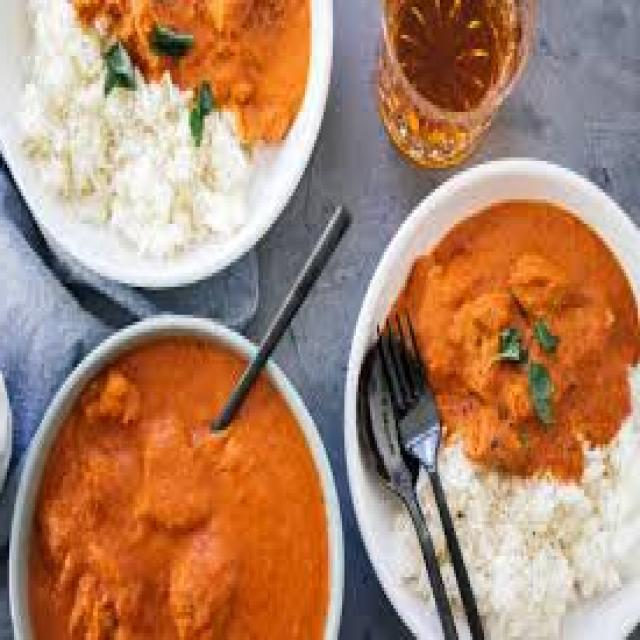Butter Chicken: (28, 339, 328, 640), (377, 189, 640, 472), (76, 0, 304, 115)
